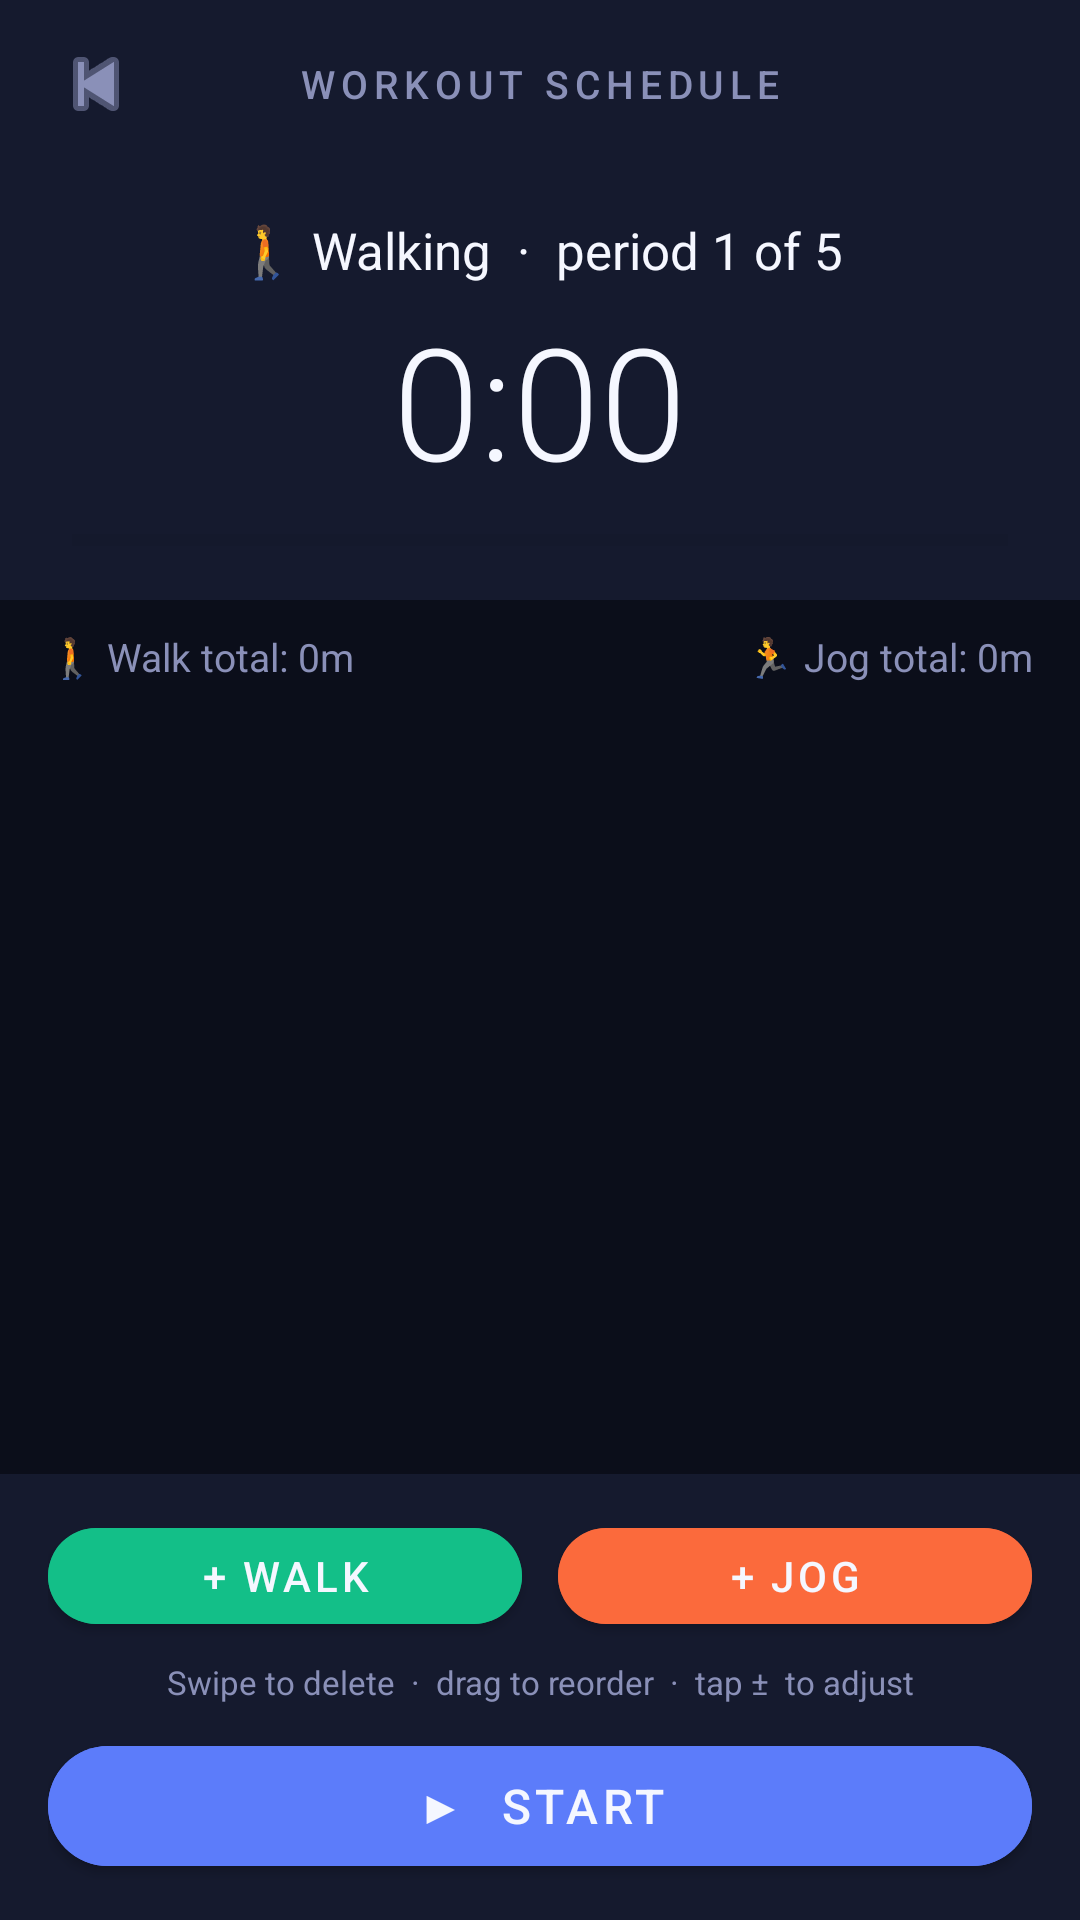

Icon click points for this 1080*1920 phone screenshot, format (x=x, y=y):
previous: (x=96, y=84)
